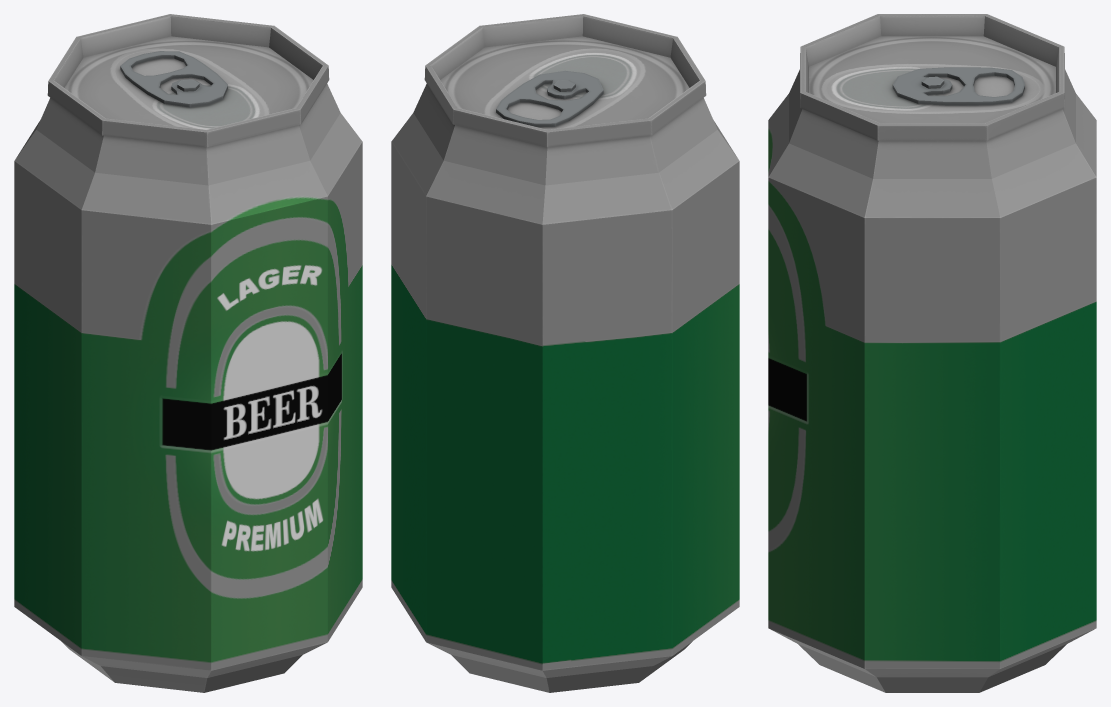
File: Beer.glb
3 renders of one model, left to right at view 1: azimuth 30°, elevation 25°; view 2: azimuth 150°, elevation 25°; view 3: azimuth 270°, elevation 25°, orthographic.
Parts seen in each view (by area): view 1: Beer_Mesh; view 2: Beer_Mesh; view 3: Beer_Mesh.
Boxes of the visible parts, x1,y1,x2,y2 form: Beer_Mesh: (14,14,362,692); Beer_Mesh: (391,14,739,692); Beer_Mesh: (768,14,1096,692).
Size of the model in its own units: 0.6097 by 1.18 by 0.6097.
Materials: 1 (1 with a texture image).
